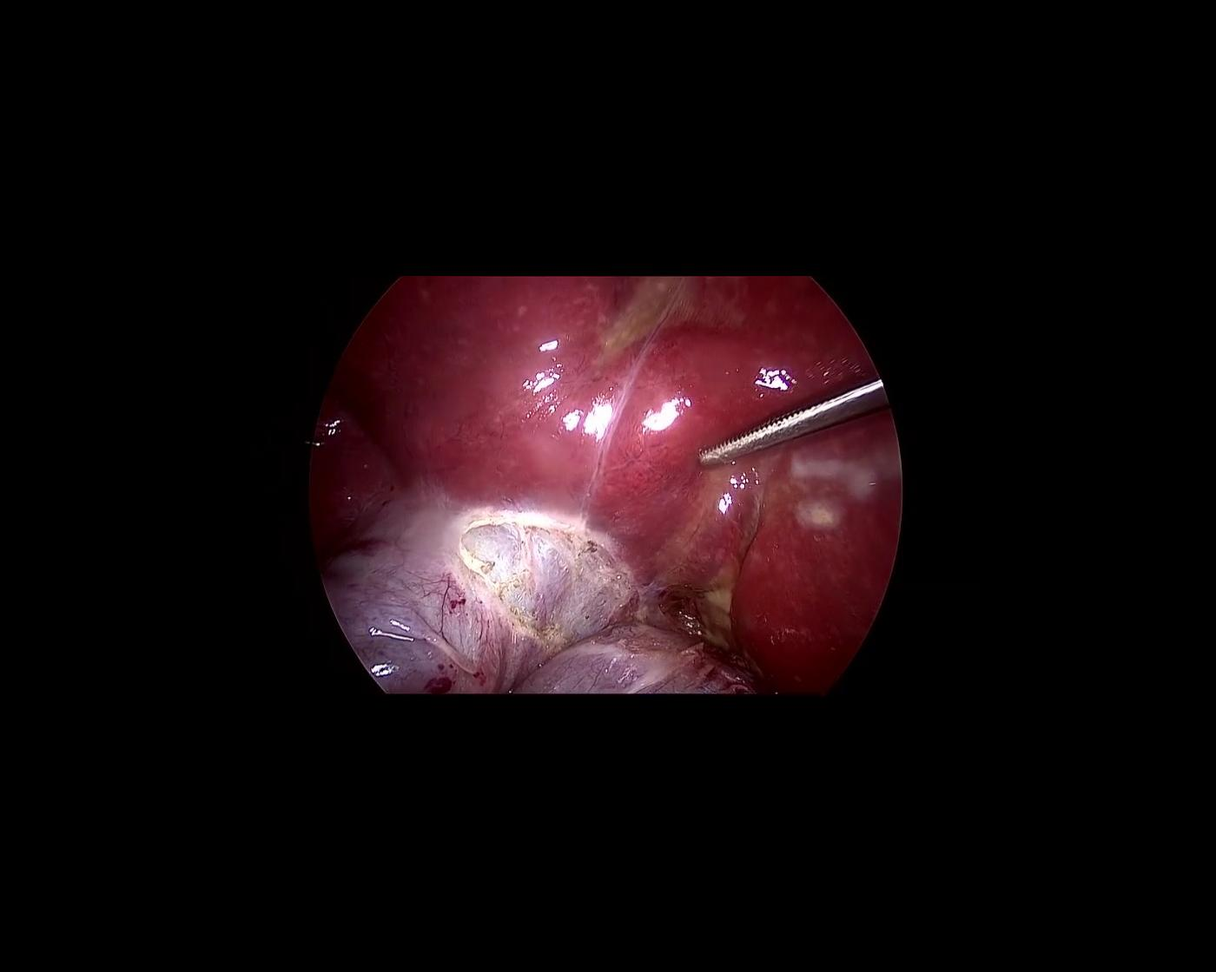Forceps: (688, 374, 890, 476)
Gallbladder: (326, 509, 761, 693)
Liver: (286, 151, 963, 714)
